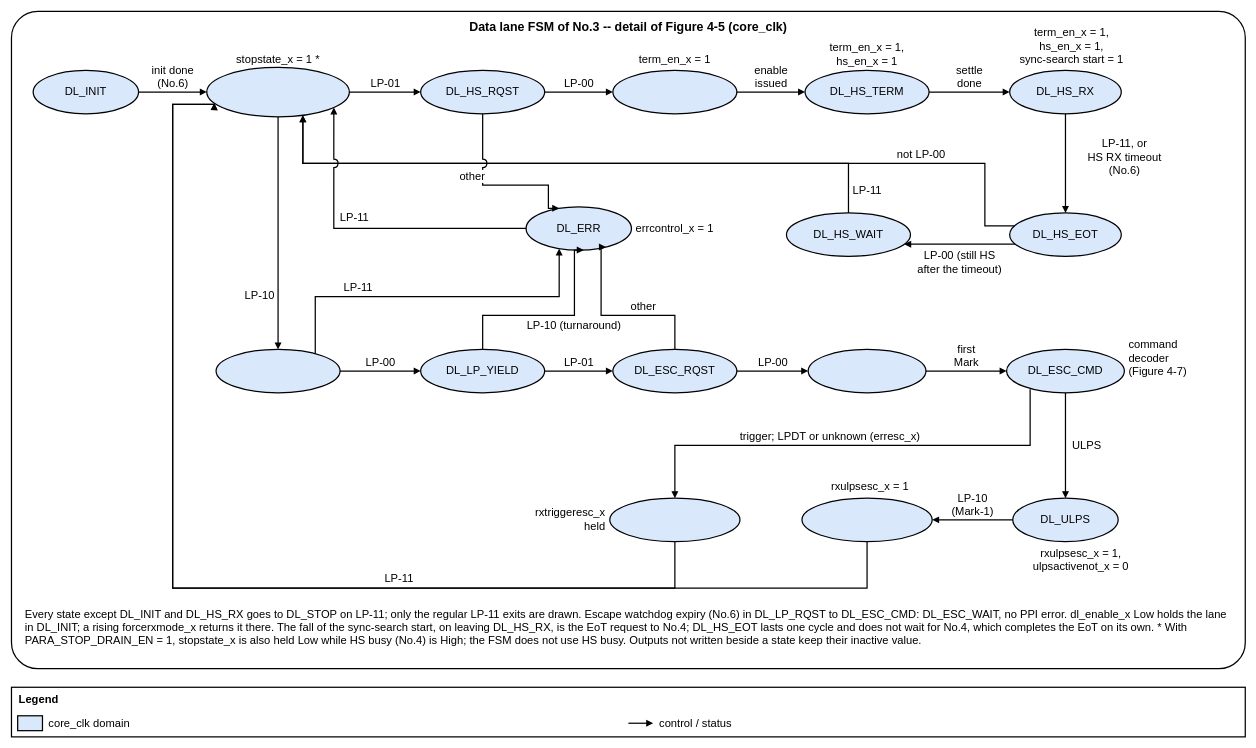
The diagram is 1256 pixels wide and 748 high, and some of its shapes have lost their labels. The centre of each missing label's shape, as x and y in pixels:
DL_ESC_GO: point 866,370
DL_ESC_WAIT: point 674,519
DL_HS_PRPR: point 674,91
DL_LP_RQST: point 277,370
DL_STOP: point 278,91
DL_ULPS_EXIT: point 866,519
